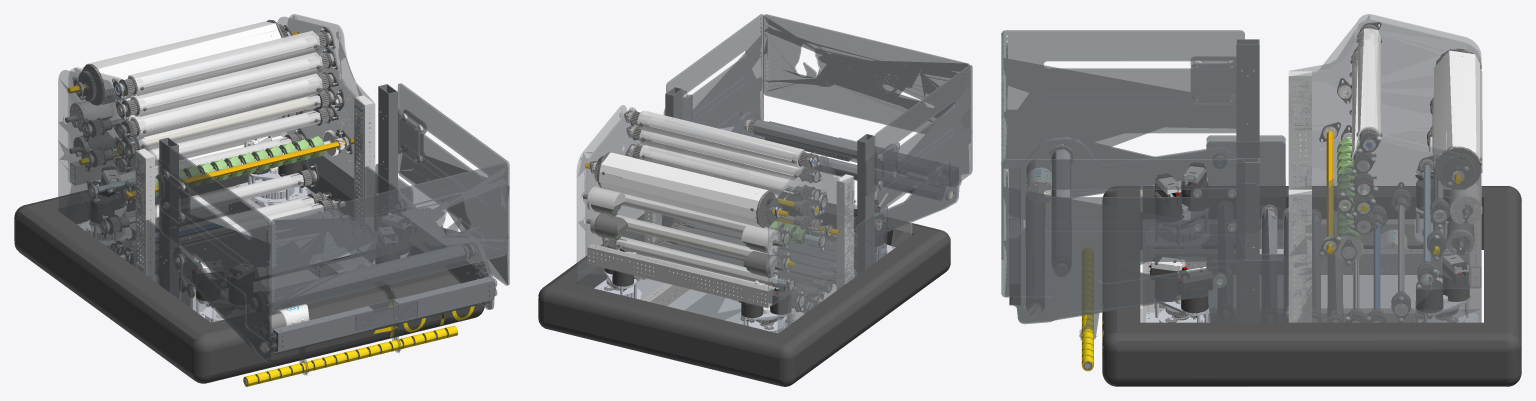
File: BESTIA.fbx
The picture shows the model from 3 angles, left to right: view 1: azimuth 30°, elevation 25°; view 2: azimuth 150°, elevation 25°; view 3: azimuth 270°, elevation 25°; orthographic projection. The views are drawn at different scales.
Visible parts, largest first — view 1: Part 1.052, Part 1.010, Part 54, Part 1.008, Part 1.009, Part 2.001, Part 29, Deadaxle Tube_20.004_in.007, Deadaxle Tube_19.606_in, Deadaxle Tube_20.004_in.002, Deadaxle Tube_20.004_in.005, Part 27 (+34 smaller); view 2: Part 1.052, Part 76, Part 1.010, Part 54, Part 1.008, Part 1.009, Deadaxle Tube_19.606_in, Part 29, Tube 2"x1"x22.567", Deadaxle Tube_20.004_in.007, Part 27, Part 2.001 (+27 smaller); view 3: Part 1.052, Part 27, Part 1.009, Part 1.008, Part 29, Part 2.001, Part 1.026, Part 54, Part 1.036, Part 1.024, Deadaxle Tube_19.606_in, Part 1.033 (+35 smaller).
Part boxes in pixels (x1,y1,x2,y2): Part 1.052: [14, 156, 484, 383]; Part 1.010: [271, 163, 507, 311]; Part 54: [58, 70, 145, 273]; Part 1.008: [160, 141, 271, 343]; Part 1.009: [398, 83, 509, 285]; Part 2.001: [277, 17, 364, 216]; Part 29: [68, 67, 156, 263]; Deadaxle Tube_20.004_in.007: [127, 30, 320, 96]; Deadaxle Tube_19.606_in: [86, 20, 281, 104]; Deadaxle Tube_20.004_in.002: [130, 52, 322, 116]; Deadaxle Tube_20.004_in.005: [130, 73, 322, 138]; Part 27: [287, 14, 374, 201]; Part 1.052: [538, 192, 950, 386]; Part 76: [585, 178, 768, 308]; Part 1.010: [763, 14, 970, 143]; Part 54: [777, 154, 854, 332]; Part 1.008: [874, 65, 972, 213]; Part 1.009: [666, 14, 763, 131]; Deadaxle Tube_19.606_in: [598, 152, 768, 227]; Part 29: [768, 152, 844, 319]; Tube 2"x1"x22.567": [587, 244, 772, 307]; Deadaxle Tube_20.004_in.007: [637, 110, 806, 167]; Part 27: [576, 105, 642, 287]; Part 2.001: [586, 107, 663, 282]; Part 1.052: [1102, 186, 1521, 386]; Part 27: [1289, 138, 1481, 322]; Part 1.009: [1001, 159, 1244, 297]; Part 1.008: [1001, 30, 1244, 168]; Part 29: [1289, 19, 1481, 189]; Part 2.001: [1289, 132, 1481, 322]; Part 1.026: [1011, 266, 1233, 324]; Part 54: [1290, 14, 1481, 172]; Part 1.036: [1021, 138, 1233, 198]; Part 1.024: [1206, 259, 1285, 322]; Deadaxle Tube_19.606_in: [1433, 49, 1482, 173]; Part 1.033: [1236, 158, 1259, 322].
Bounding box in the file's own units: 81.08 × 58.71 × 113.
